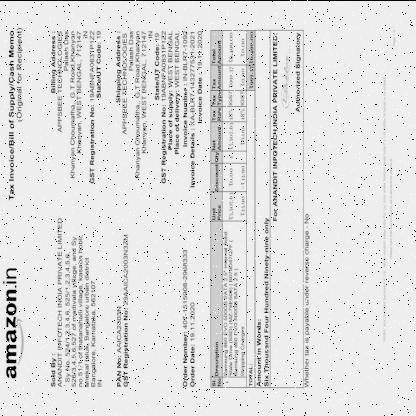Paragraph: (113, 28, 204, 190), (48, 216, 104, 390), (48, 27, 102, 186), (380, 74, 394, 344), (6, 26, 24, 202), (180, 246, 197, 390), (256, 216, 270, 388), (115, 232, 130, 388), (303, 212, 311, 388), (272, 31, 278, 221), (294, 30, 302, 112), (391, 23, 397, 49)
Table: (209, 29, 256, 387)
